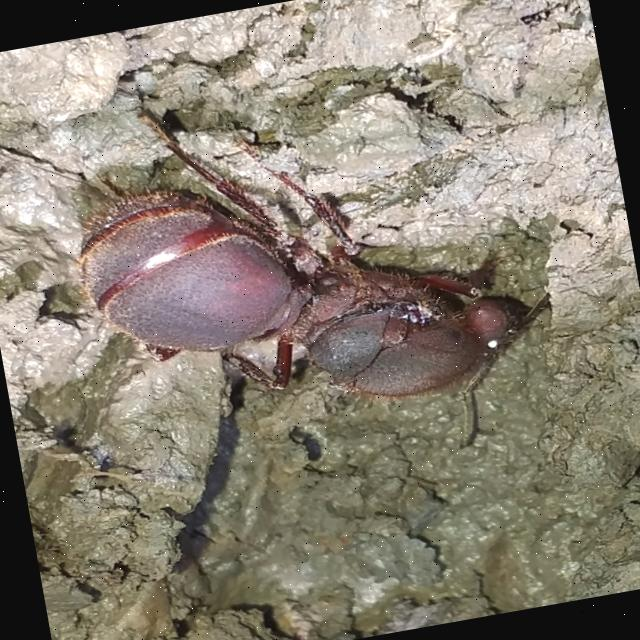Alive-Female-Dealate: (53, 44, 574, 510)
